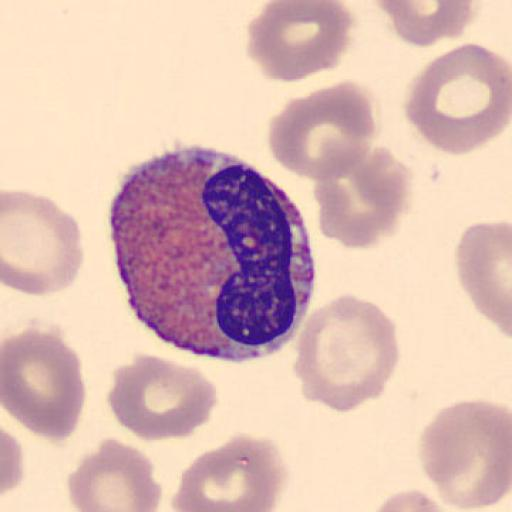RBC: (293, 291, 401, 414), (404, 40, 512, 156), (266, 78, 378, 184), (311, 140, 413, 250), (418, 398, 512, 510), (107, 351, 219, 443), (2, 326, 88, 444), (172, 430, 290, 512), (2, 188, 85, 297), (245, 0, 354, 83), (66, 436, 164, 512), (453, 218, 512, 341), (372, 0, 476, 47), (370, 488, 456, 512), (1, 424, 25, 500)
WBC: (113, 152, 319, 364)
